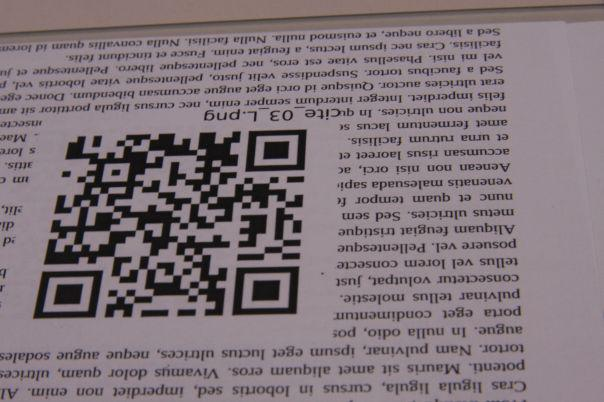Finder pattern: (31, 268, 104, 326), (230, 264, 303, 319), (243, 125, 309, 173)
